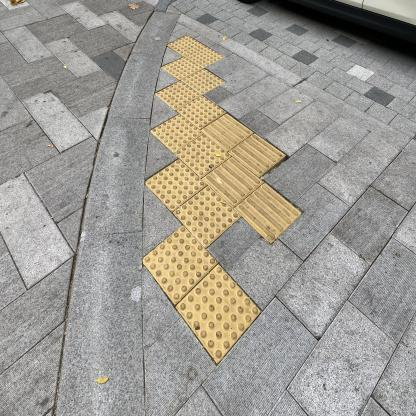podotacti: (140, 28, 307, 371)
